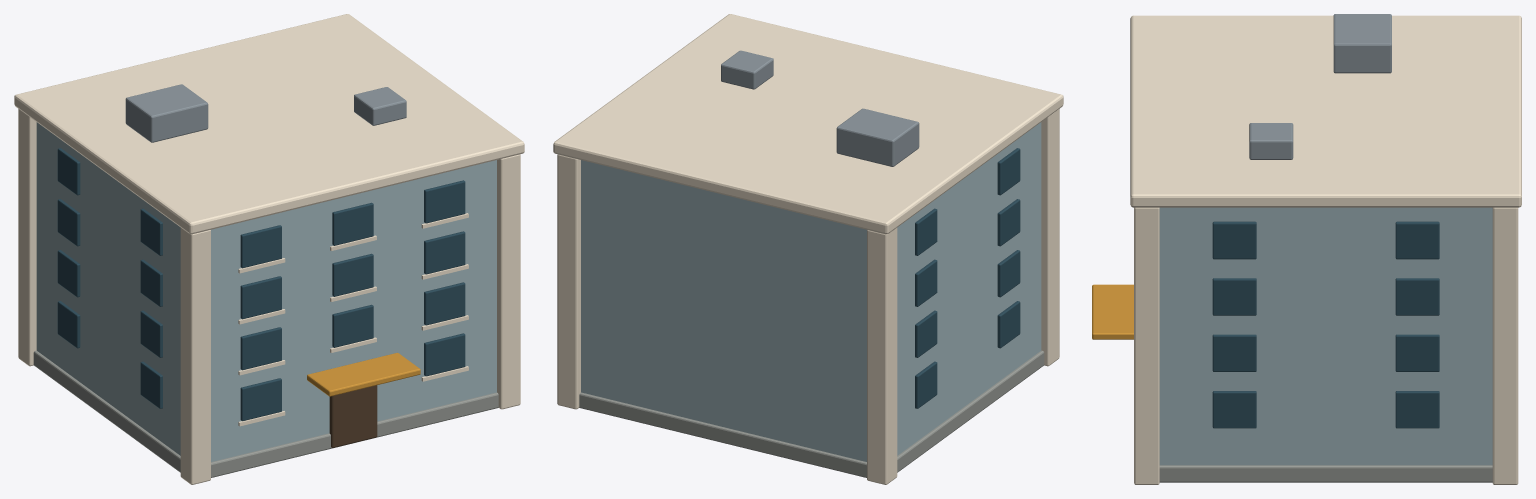
The model's file is building_2.glb.
The picture shows the model from 3 angles, left to right: view 1: azimuth 30°, elevation 25°; view 2: azimuth 150°, elevation 25°; view 3: azimuth 270°, elevation 25°; orthographic projection. The views are drawn at different scales.
Visible parts, largest first — view 1: Cube; view 2: Cube; view 3: Cube.
Boxes of the visible parts, bbox=[...] form: Cube: bbox=[14, 14, 524, 484]; Cube: bbox=[553, 14, 1063, 484]; Cube: bbox=[1092, 14, 1521, 484].
Size of the model in its own units: 11.7 by 9.7 by 11.75.
